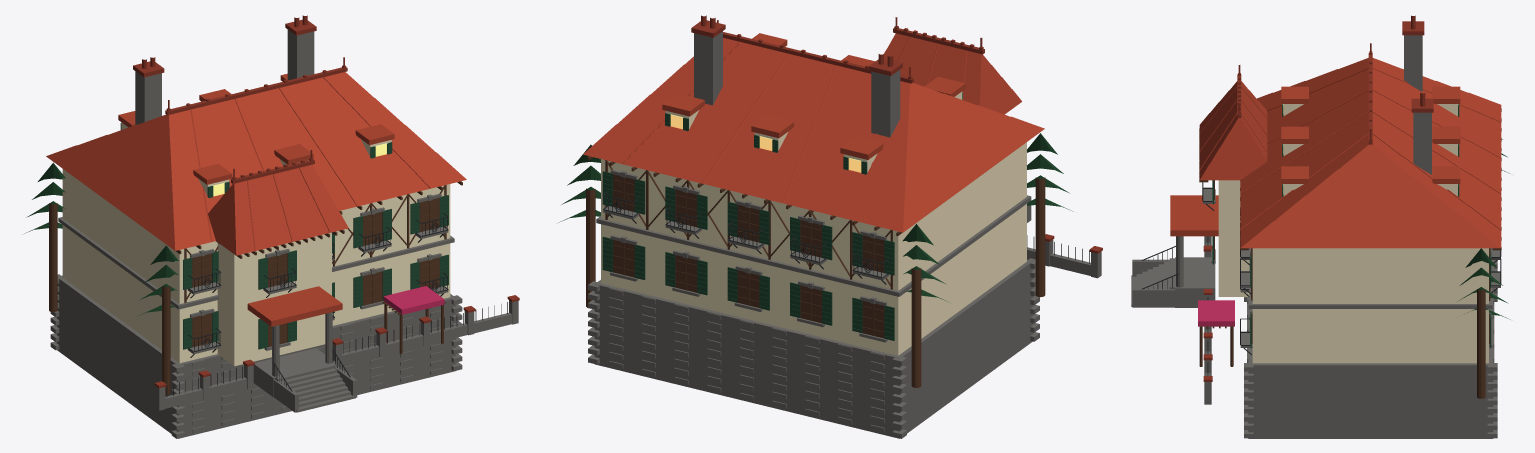
File: fv_ll_02_ana_mandara_villa_03_normandy.glb
3 views of the same model, side by side, from view 1: azimuth 30°, elevation 25°; view 2: azimuth 150°, elevation 25°; view 3: azimuth 270°, elevation 25° (orthographic). The views are drawn at different scales.
Visible parts, largest first — view 1: marseille_corrugated_roof_tiles, granite_foundation_and_stairs, stucco_facade_and_dormers, colombage_timber_and_eaves, pine_green_louvered_shutters, ridge_cresting_and_chimneys, wrought_iron_balconies_3d, pine_trees_and_garden_hedges, bougainvillea_pergola_clusters; view 2: marseille_corrugated_roof_tiles, granite_foundation_and_stairs, stucco_facade_and_dormers, colombage_timber_and_eaves, pine_green_louvered_shutters, ridge_cresting_and_chimneys, pine_trees_and_garden_hedges, wrought_iron_balconies_3d; view 3: marseille_corrugated_roof_tiles, stucco_facade_and_dormers, granite_foundation_and_stairs, colombage_timber_and_eaves, ridge_cresting_and_chimneys, bougainvillea_pergola_clusters, wrought_iron_balconies_3d, pine_trees_and_garden_hedges, pine_green_louvered_shutters.
Boxes of the visible parts, x1,y1,x2,y2 form: marseille_corrugated_roof_tiles: (46, 72, 466, 326); granite_foundation_and_stairs: (50, 30, 518, 438); stucco_facade_and_dormers: (62, 122, 450, 366); colombage_timber_and_eaves: (49, 181, 462, 394); pine_green_louvered_shutters: (120, 123, 448, 349); ridge_cresting_and_chimneys: (133, 15, 519, 388); wrought_iron_balconies_3d: (166, 213, 507, 397); pine_trees_and_garden_hedges: (24, 162, 178, 317); bougainvillea_pergola_clusters: (383, 286, 444, 314); marseille_corrugated_roof_tiles: (583, 33, 1044, 232); granite_foundation_and_stairs: (588, 31, 1101, 438); stucco_facade_and_dormers: (601, 91, 1026, 355); colombage_timber_and_eaves: (586, 156, 1045, 387); pine_green_louvered_shutters: (602, 92, 962, 340); ridge_cresting_and_chimneys: (691, 15, 1102, 253); pine_trees_and_garden_hedges: (558, 133, 1073, 302); wrought_iron_balconies_3d: (603, 191, 1089, 284); marseille_corrugated_roof_tiles: (1170, 58, 1501, 248); stucco_facade_and_dormers: (1218, 104, 1488, 363); granite_foundation_and_stairs: (1131, 35, 1500, 438); colombage_timber_and_eaves: (1199, 108, 1501, 398); ridge_cresting_and_chimneys: (1203, 15, 1433, 381); bougainvillea_pergola_clusters: (1198, 300, 1234, 326); wrought_iron_balconies_3d: (1141, 182, 1501, 375); pine_trees_and_garden_hedges: (1457, 139, 1510, 319); pine_green_louvered_shutters: (1212, 104, 1491, 348).
Size of the model in its own units: 24.76 by 20.03 by 22.74.
